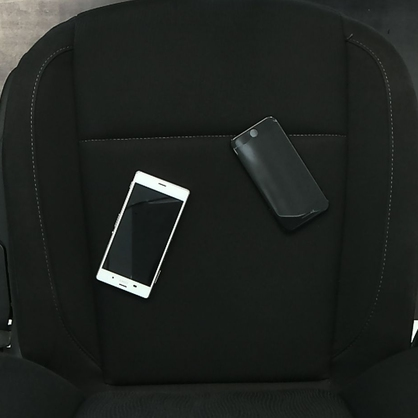phone: (228, 114, 335, 238), (92, 169, 192, 300)
